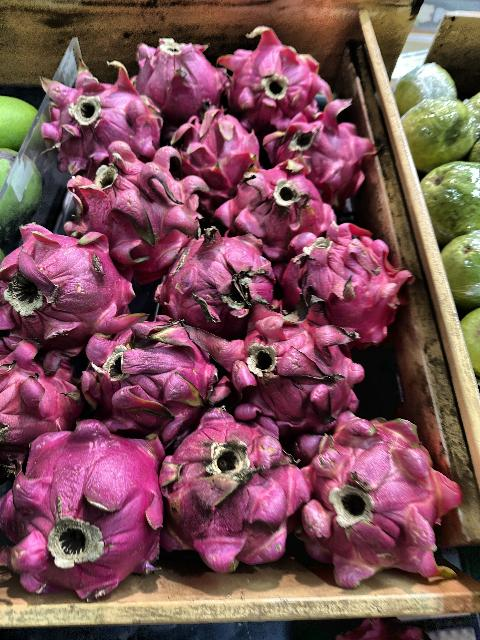buah-naga-matang: (9, 423, 176, 597), (294, 416, 464, 578), (165, 410, 306, 568), (212, 304, 372, 420), (0, 219, 138, 339), (280, 218, 412, 338), (70, 145, 202, 259), (85, 318, 213, 427), (160, 223, 280, 324), (33, 69, 161, 159), (0, 336, 82, 462), (224, 156, 338, 246), (214, 27, 330, 113), (264, 106, 377, 192), (120, 30, 229, 116), (173, 100, 259, 186)
